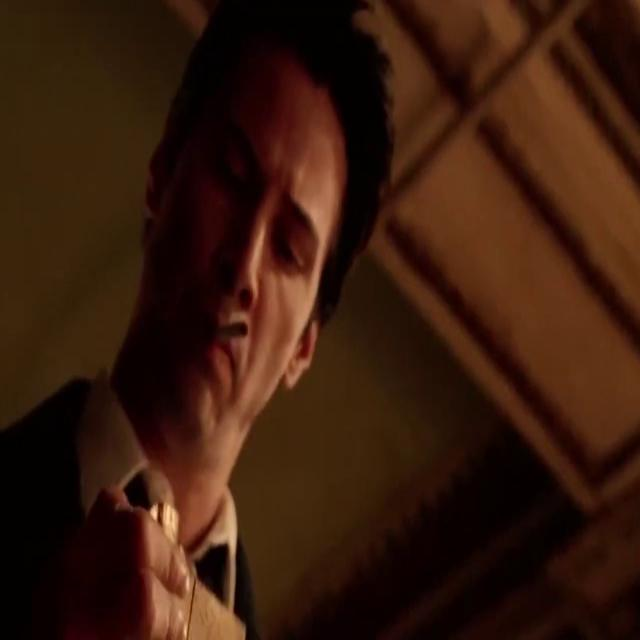Smooking: (214, 301, 251, 348)
